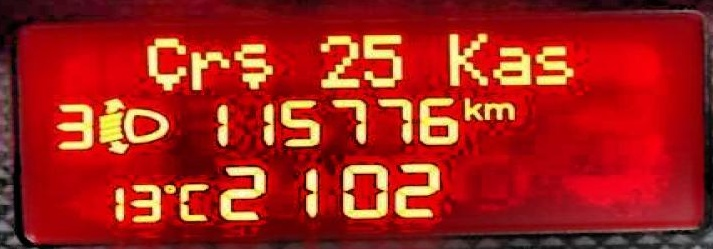0: (339, 162, 388, 217)
1: (302, 166, 319, 217), (259, 102, 275, 146), (214, 102, 229, 146), (110, 185, 125, 221)
2: (216, 164, 266, 220), (393, 161, 440, 216), (317, 32, 359, 87)
3: (54, 102, 94, 148), (129, 183, 160, 222)
5: (361, 32, 401, 87), (277, 98, 321, 147)
6: (416, 96, 458, 143)
7: (374, 97, 413, 143), (329, 97, 366, 144)
X: (446, 30, 489, 86), (144, 36, 186, 91), (230, 41, 274, 88), (531, 44, 575, 85), (189, 50, 229, 91), (491, 45, 531, 85), (175, 182, 209, 222), (481, 101, 513, 121), (461, 96, 481, 120)
